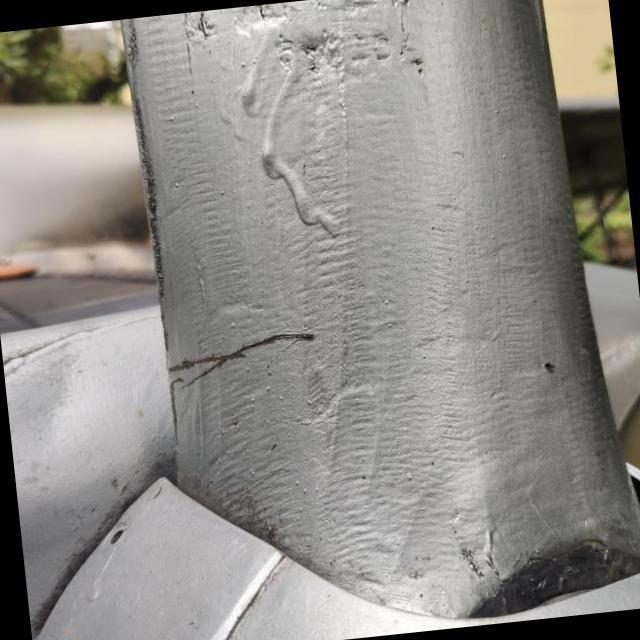Fastener Damage: (84, 504, 150, 572)
